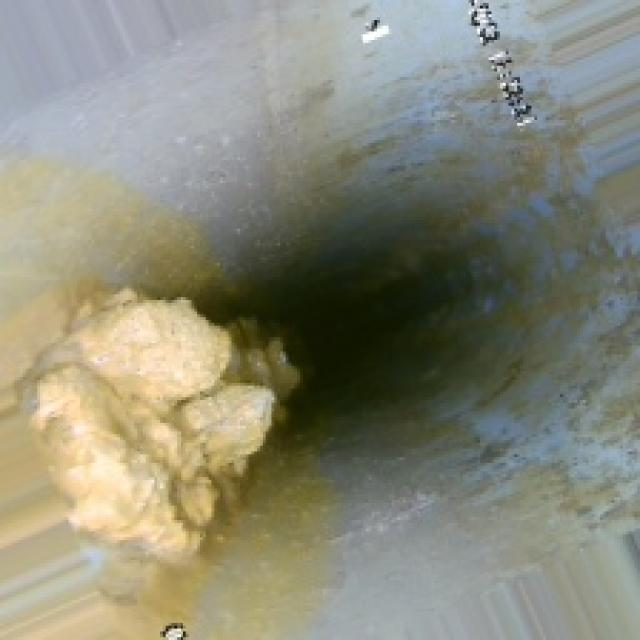sluge accumulation: (40, 283, 297, 548)
